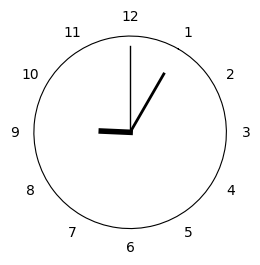12: (121, 9, 139, 24)
circle: (34, 36, 226, 228)
hours: (98, 126, 132, 135)
minutes: (132, 72, 166, 130)
seconds: (129, 46, 132, 130)
